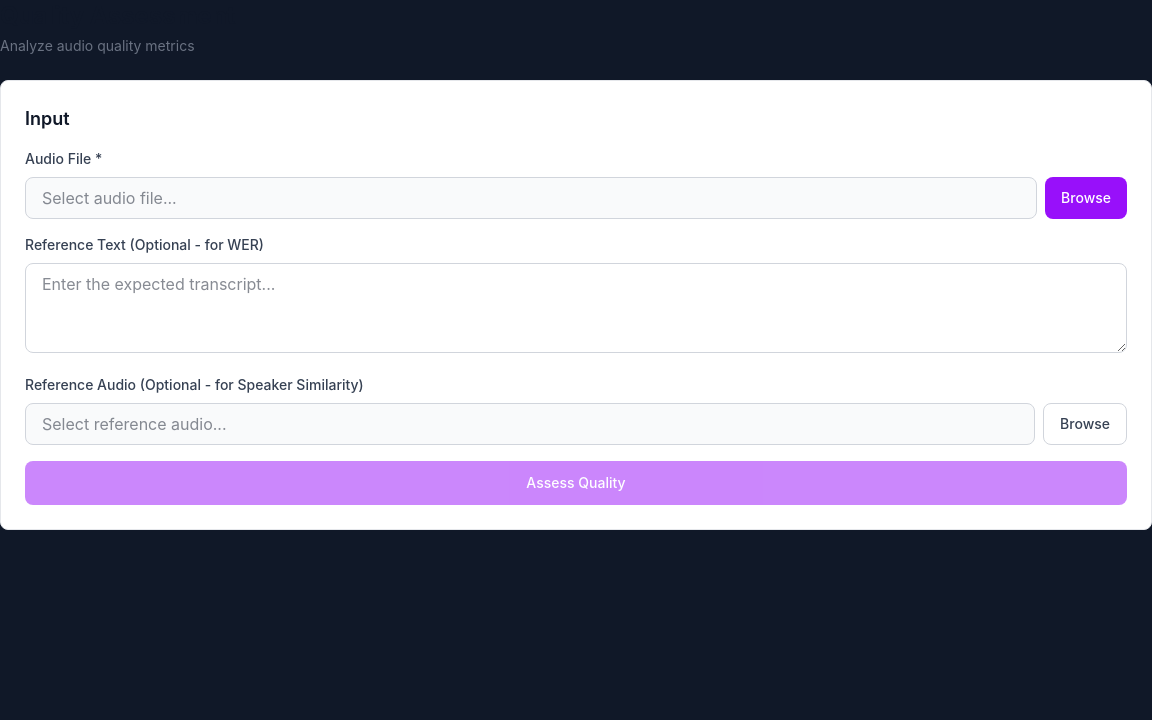
Test: QualityDashboard › Optional Metrics › should not display WER if not available
Click the button with aria-label "browse audio file" at [1086, 198], box [1045,177,1127,219]
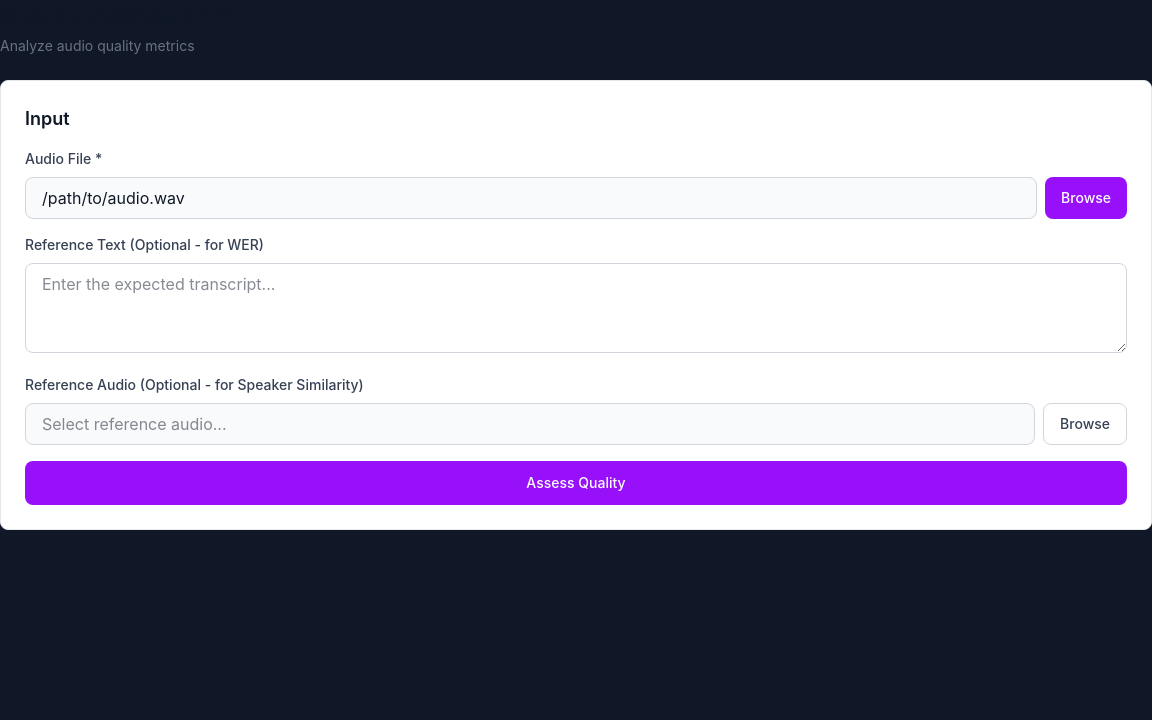
Now the button "Assess Quality" is enabled
Click the button "Assess Quality" at [576, 483], box [25,461,1127,505]
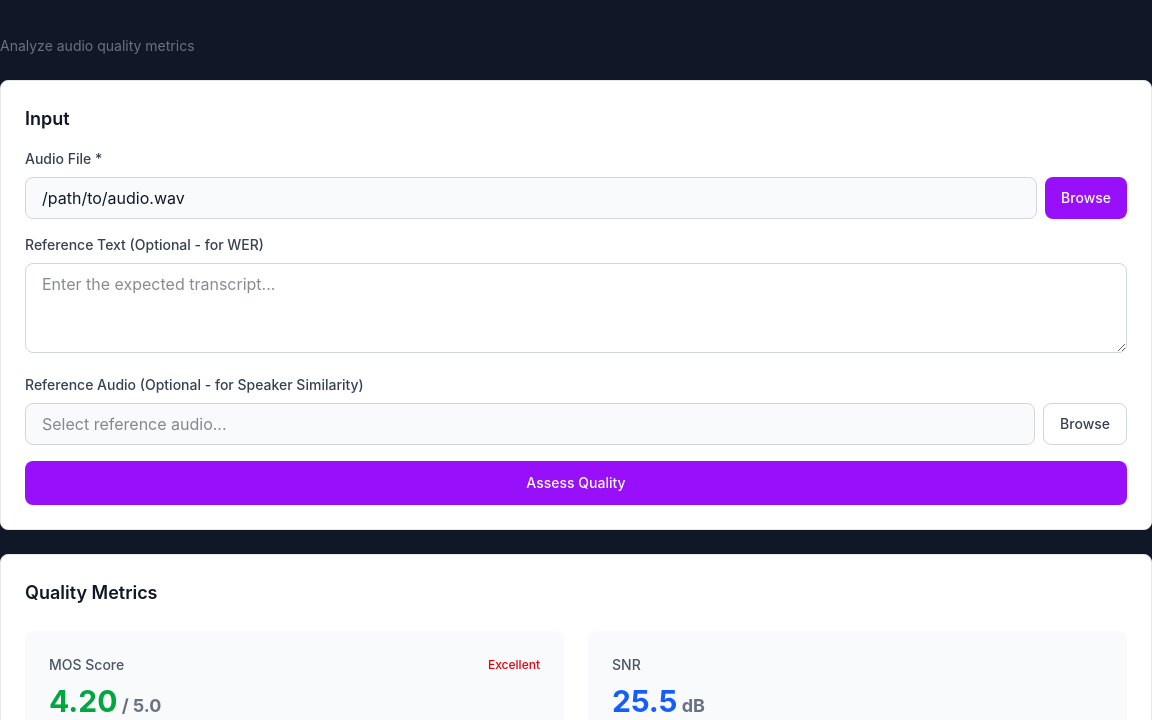
Now the text "4.20" is shown, box [49,683,117,719]
